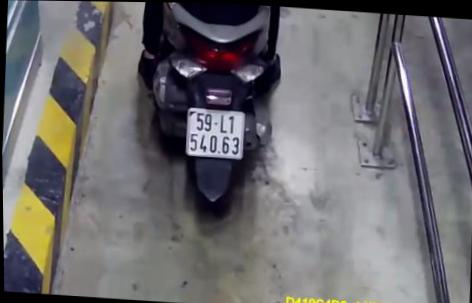LP: (183, 104, 247, 159)
